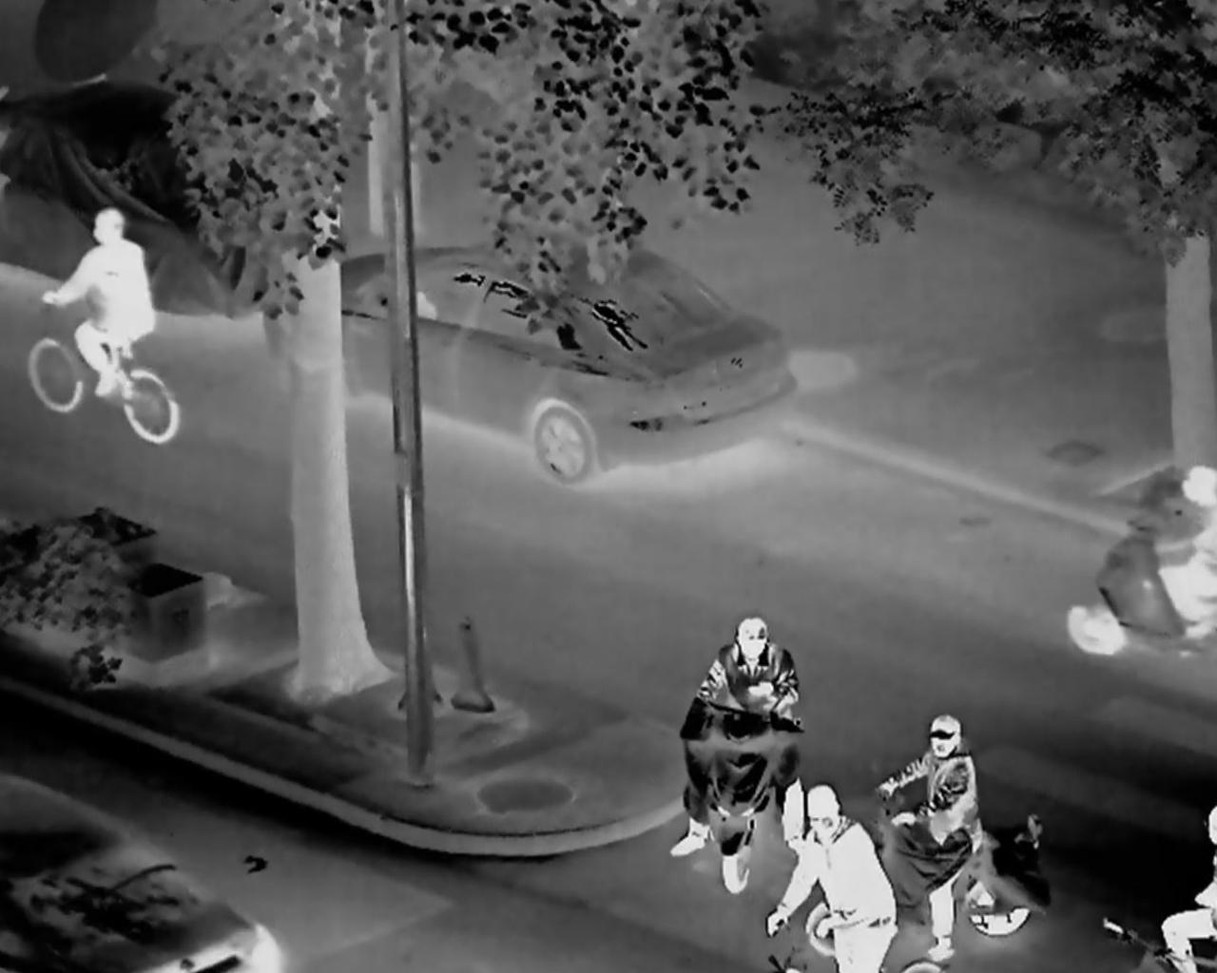person: (664, 594, 816, 884), (877, 705, 1007, 973), (771, 770, 894, 973), (39, 202, 154, 407)
